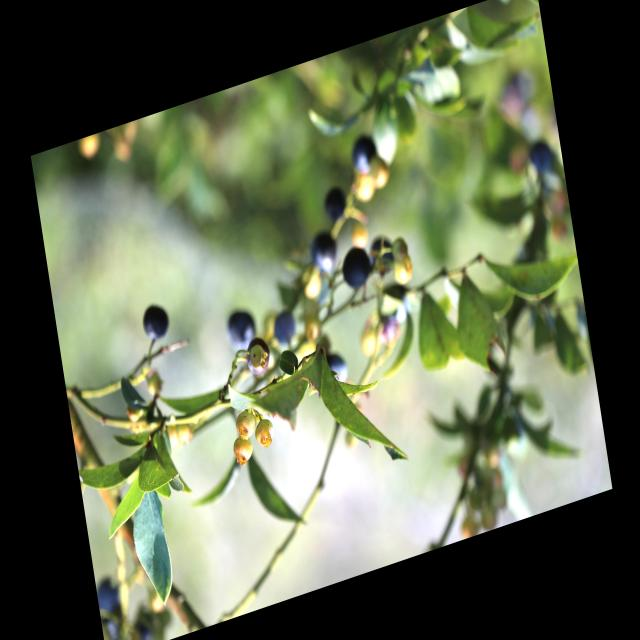blueberry: (338, 241, 373, 294), (308, 227, 341, 277), (140, 298, 173, 347), (225, 306, 258, 354), (368, 230, 398, 277), (244, 335, 273, 381), (348, 134, 379, 176), (322, 182, 349, 226), (270, 309, 298, 347), (323, 348, 350, 387)
blueberry-halfripe: (232, 407, 259, 444), (254, 414, 277, 452), (231, 433, 255, 468), (250, 342, 266, 369)
